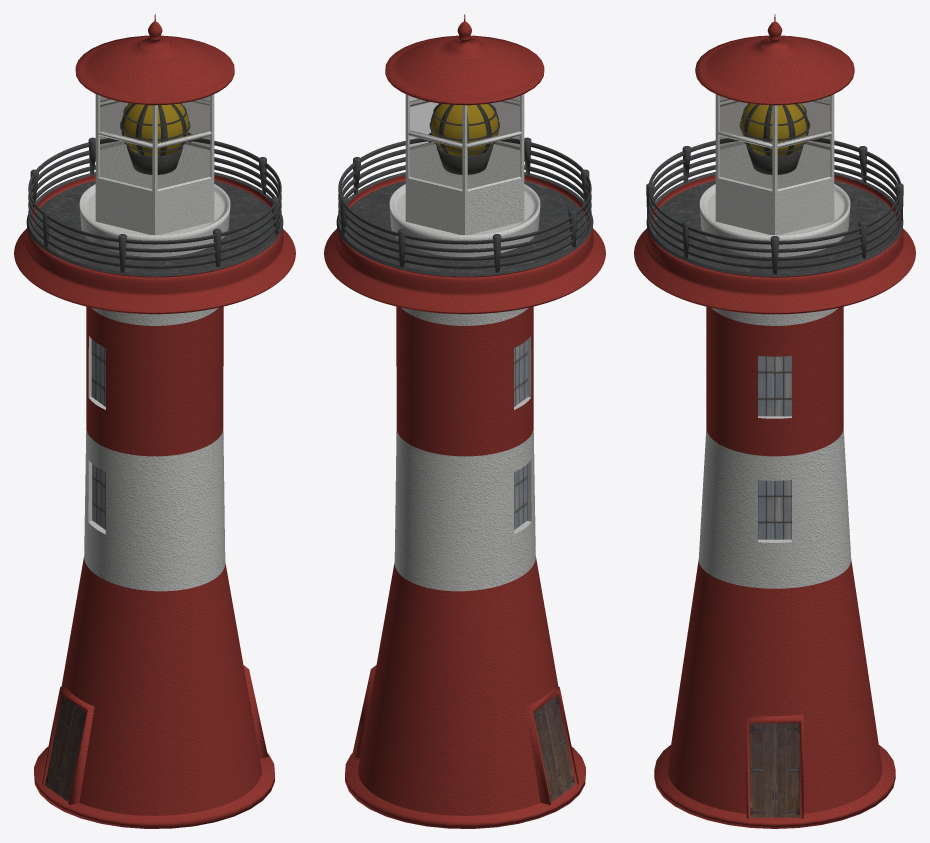
The model's file is lighthouse.obj.
The picture shows the model from 3 angles, left to right: view 1: azimuth 30°, elevation 25°; view 2: azimuth 150°, elevation 25°; view 3: azimuth 270°, elevation 25°; orthographic projection.
Visible parts, largest first — view 1: Lighthouse_Red_0_material, Lighthouse_White_0_White, Lighthouse_Slate_0_Slate, Lighthouse_Window_0_Window, Lighthouse_Door_0_Door, Lamp_Slate_0_Slate, Lighthouse_OutsideWindows_0_OutsideWindows, Lamp_LampGlass_0_LampGlass; view 2: Lighthouse_Red_0_material, Lighthouse_White_0_White, Lighthouse_Slate_0_Slate, Lighthouse_Window_0_Window, Lighthouse_Door_0_Door, Lamp_Slate_0_Slate, Lamp_LampGlass_0_LampGlass, Lighthouse_OutsideWindows_0_OutsideWindows; view 3: Lighthouse_Red_0_material, Lighthouse_White_0_White, Lighthouse_Slate_0_Slate, Lighthouse_Window_0_Window, Lighthouse_Door_0_Door, Lighthouse_OutsideWindows_0_OutsideWindows, Lamp_Slate_0_Slate, Lamp_LampGlass_0_LampGlass.
Boxes of the visible parts, box(x1,y1,x2,y2) form: Lighthouse_Red_0_material: box(14, 14, 295, 828); Lighthouse_White_0_White: box(79, 94, 230, 591); Lighthouse_Slate_0_Slate: box(26, 133, 283, 276); Lighthouse_Window_0_Window: box(100, 96, 210, 188); Lighthouse_Door_0_Door: box(45, 695, 86, 801); Lamp_Slate_0_Slate: box(120, 103, 190, 174); Lighthouse_OutsideWindows_0_OutsideWindows: box(91, 339, 105, 529); Lamp_LampGlass_0_LampGlass: box(121, 103, 188, 155); Lighthouse_Red_0_material: box(324, 14, 605, 828); Lighthouse_White_0_White: box(389, 94, 540, 591); Lighthouse_Slate_0_Slate: box(336, 133, 593, 276); Lighthouse_Window_0_Window: box(410, 96, 519, 188); Lighthouse_Door_0_Door: box(533, 695, 574, 801); Lamp_Slate_0_Slate: box(429, 103, 499, 174); Lamp_LampGlass_0_LampGlass: box(431, 104, 498, 155); Lighthouse_OutsideWindows_0_OutsideWindows: box(514, 339, 528, 529); Lighthouse_Red_0_material: box(634, 14, 915, 828); Lighthouse_White_0_White: box(698, 94, 851, 588); Lighthouse_Slate_0_Slate: box(646, 138, 903, 276); Lighthouse_Window_0_Window: box(719, 96, 830, 188); Lighthouse_Door_0_Door: box(750, 723, 799, 817); Lighthouse_OutsideWindows_0_OutsideWindows: box(758, 355, 791, 539); Lamp_Slate_0_Slate: box(739, 103, 810, 174); Lamp_LampGlass_0_LampGlass: box(741, 103, 808, 155).
Bounding box in the file's own units: 4.11 × 12.3 × 4.11.
